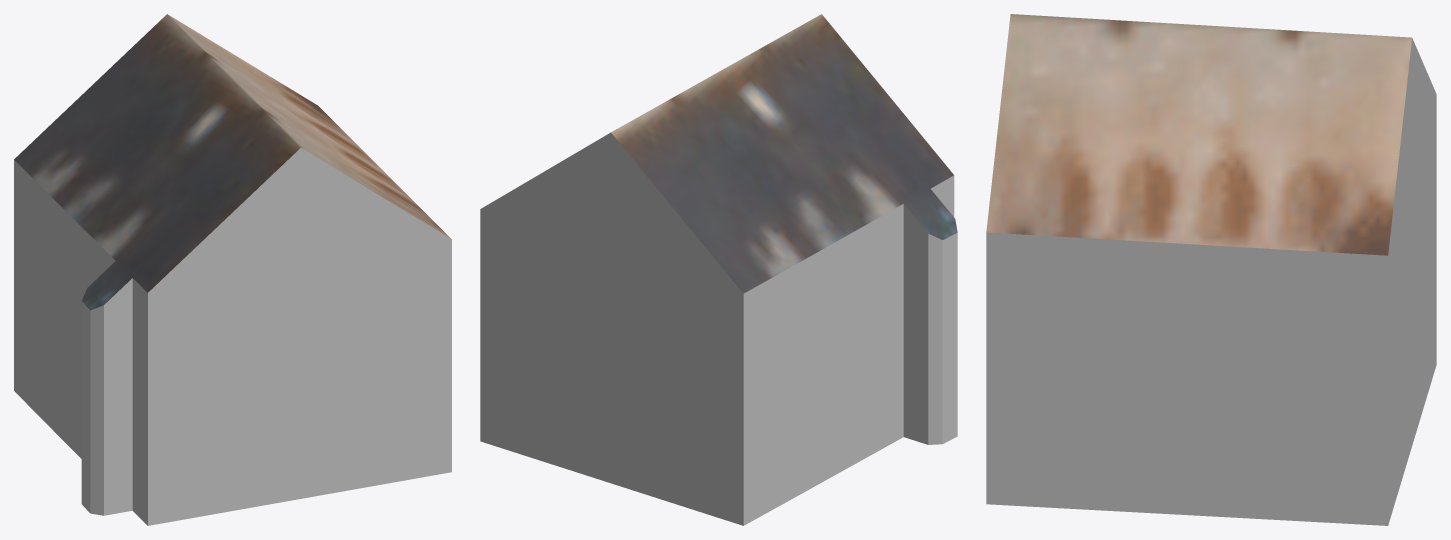
Rendered from DEBW_0010007Tx4E.gltf.
The picture shows the model from 3 angles, left to right: view 1: azimuth 30°, elevation 25°; view 2: azimuth 150°, elevation 25°; view 3: azimuth 270°, elevation 25°; orthographic projection. The views are drawn at different scales.
Parts seen in each view (by area): view 1: Z_UP; view 2: Z_UP; view 3: Z_UP.
Part boxes in pixels (<box>): Z_UP: <box>14,14,451,525</box>; Z_UP: <box>480,14,957,525</box>; Z_UP: <box>986,14,1436,525</box>.
Bounding box in the file's own units: 13.49 × 12.87 × 12.81.
Materials: 2 (1 with a texture image).
